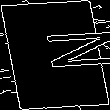N_W: (7, 32, 103, 78)
